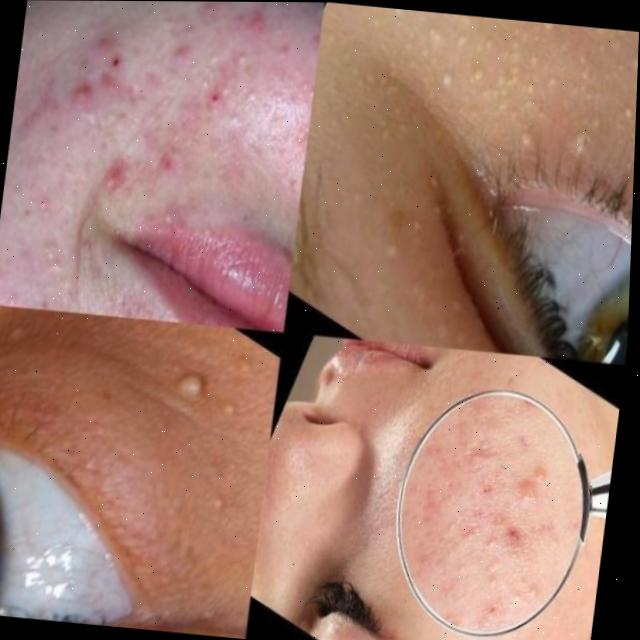Acne: (23, 31, 283, 187), (430, 13, 640, 138), (421, 444, 542, 572), (12, 323, 37, 351), (178, 369, 207, 393)
